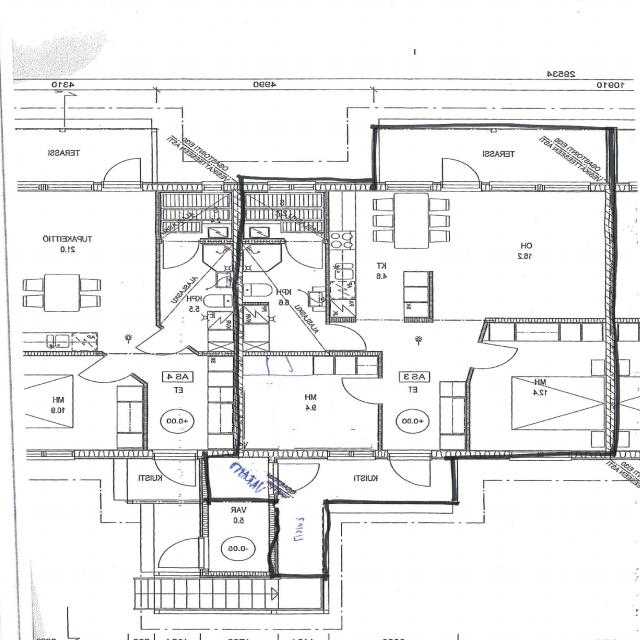door: (268, 464, 320, 494), (390, 450, 430, 488), (470, 342, 518, 373), (443, 156, 480, 192), (342, 378, 383, 404), (326, 324, 365, 350), (286, 240, 322, 268)
